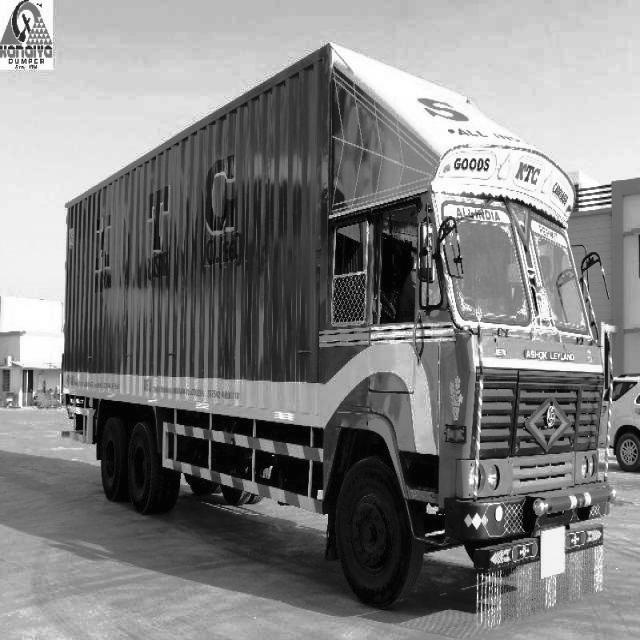HCV: (57, 24, 627, 584)
